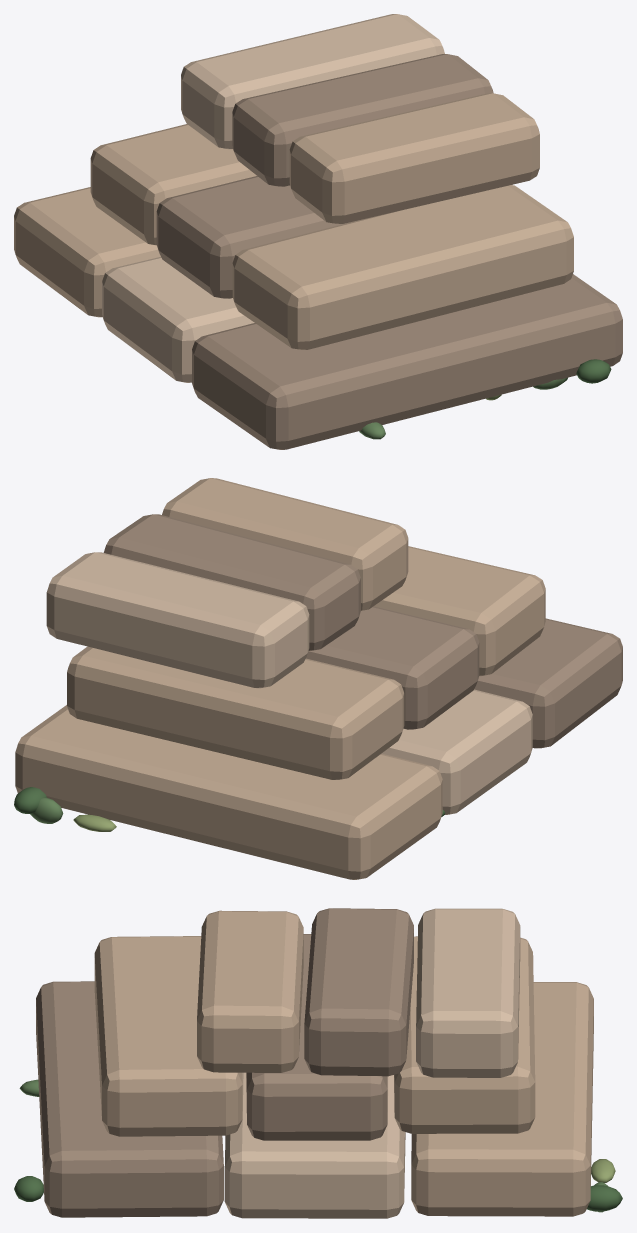
File: SM_Menu_PracticalRostrum.fbx
The picture shows the model from 3 angles, top to bottom: view 1: azimuth 30°, elevation 25°; view 2: azimuth 150°, elevation 25°; view 3: azimuth 270°, elevation 25°; orthographic projection. The views are drawn at different scales.
Parts seen in each view (by area): view 1: SM_Menu_PracticalRostrum; view 2: SM_Menu_PracticalRostrum; view 3: SM_Menu_PracticalRostrum.
Part boxes in pixels (x1=…): SM_Menu_PracticalRostrum: x1=14, y1=14, x2=622, y2=449; SM_Menu_PracticalRostrum: x1=14, y1=478, x2=622, y2=879; SM_Menu_PracticalRostrum: x1=14, y1=908, x2=622, y2=1218.
Bounding box in the file's own units: 102 × 142 × 55.05.
